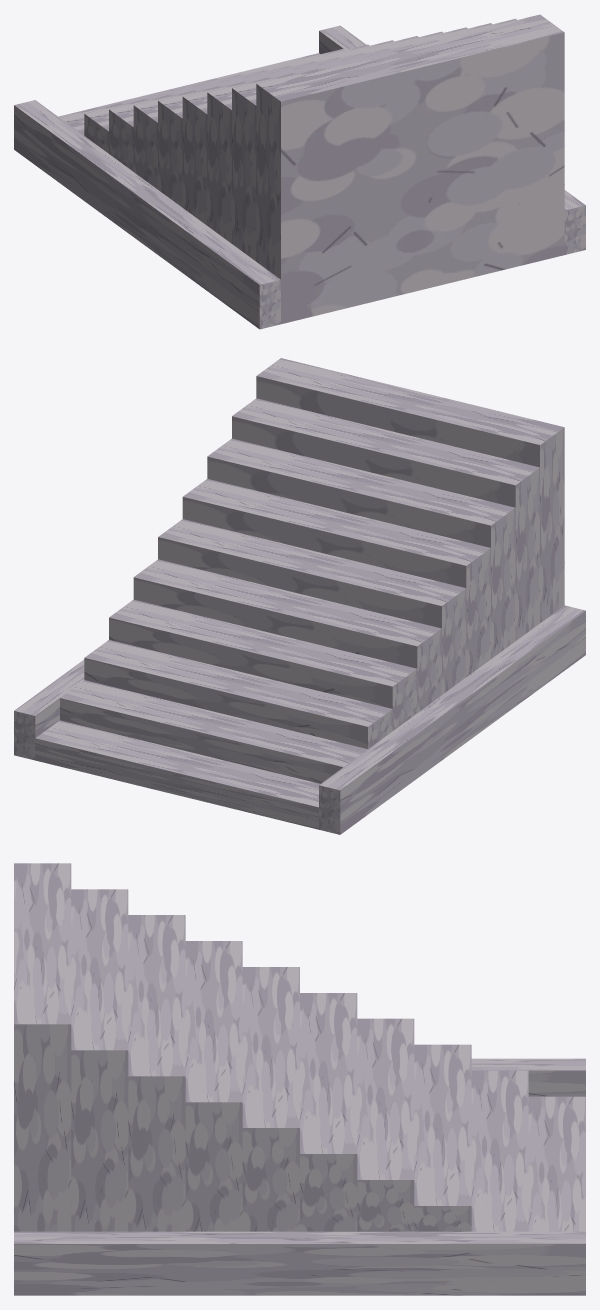
Rendered from stairs.glb.
3 views of the same model, one above another, from view 1: azimuth 30°, elevation 25°; view 2: azimuth 150°, elevation 25°; view 3: azimuth 270°, elevation 25° (orthographic). The views are drawn at different scales.
Visible parts, largest first — view 1: stairs; view 2: stairs; view 3: stairs.
Boxes of the visible parts, x1,y1,x2,y2 form: stairs: (14, 14, 585, 329); stairs: (14, 358, 585, 834); stairs: (14, 863, 585, 1295).
Size of the model in its own units: 4.6 by 3 by 6.
Materials: 1 (1 with a texture image).
